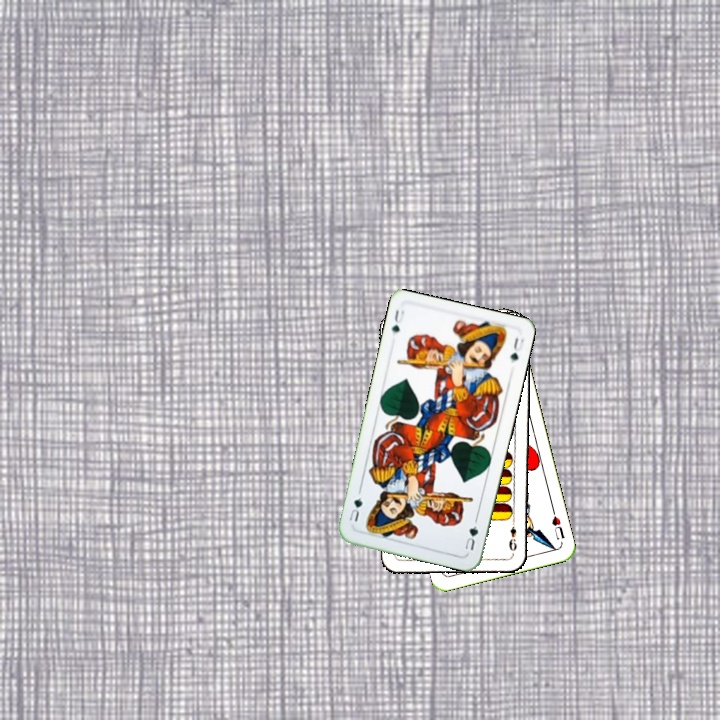E9: (505, 516, 519, 553)
GU: (461, 522, 481, 553), (388, 305, 407, 335)
HU: (548, 505, 567, 542)
